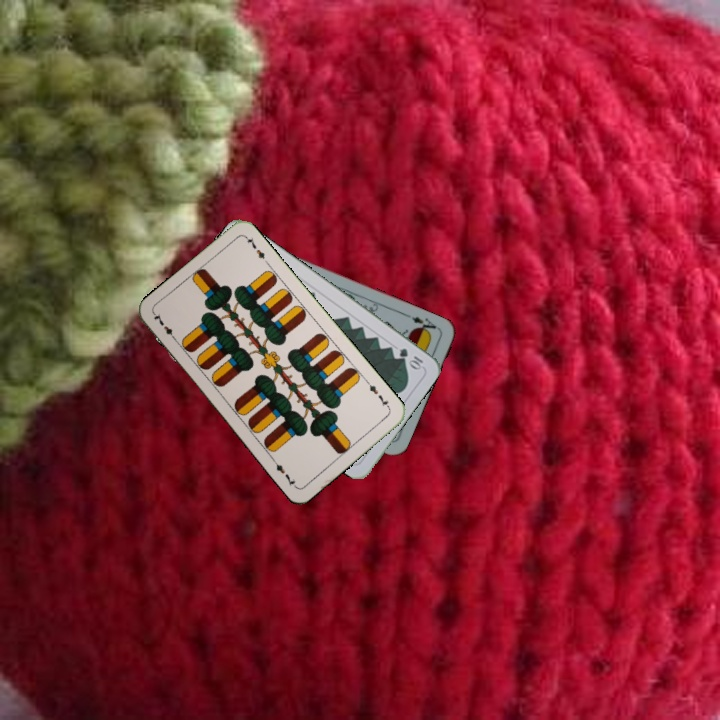E7: (363, 377, 393, 412), (150, 309, 180, 344)
EA: (403, 310, 442, 337)
G10: (395, 344, 425, 372)
